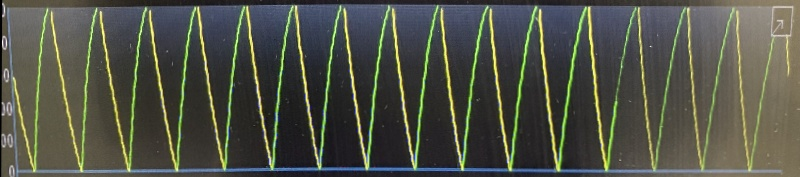normal_volume: (19, 2, 755, 176)
